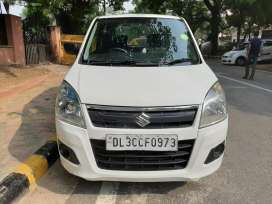license_plate: (106, 135, 177, 150)
